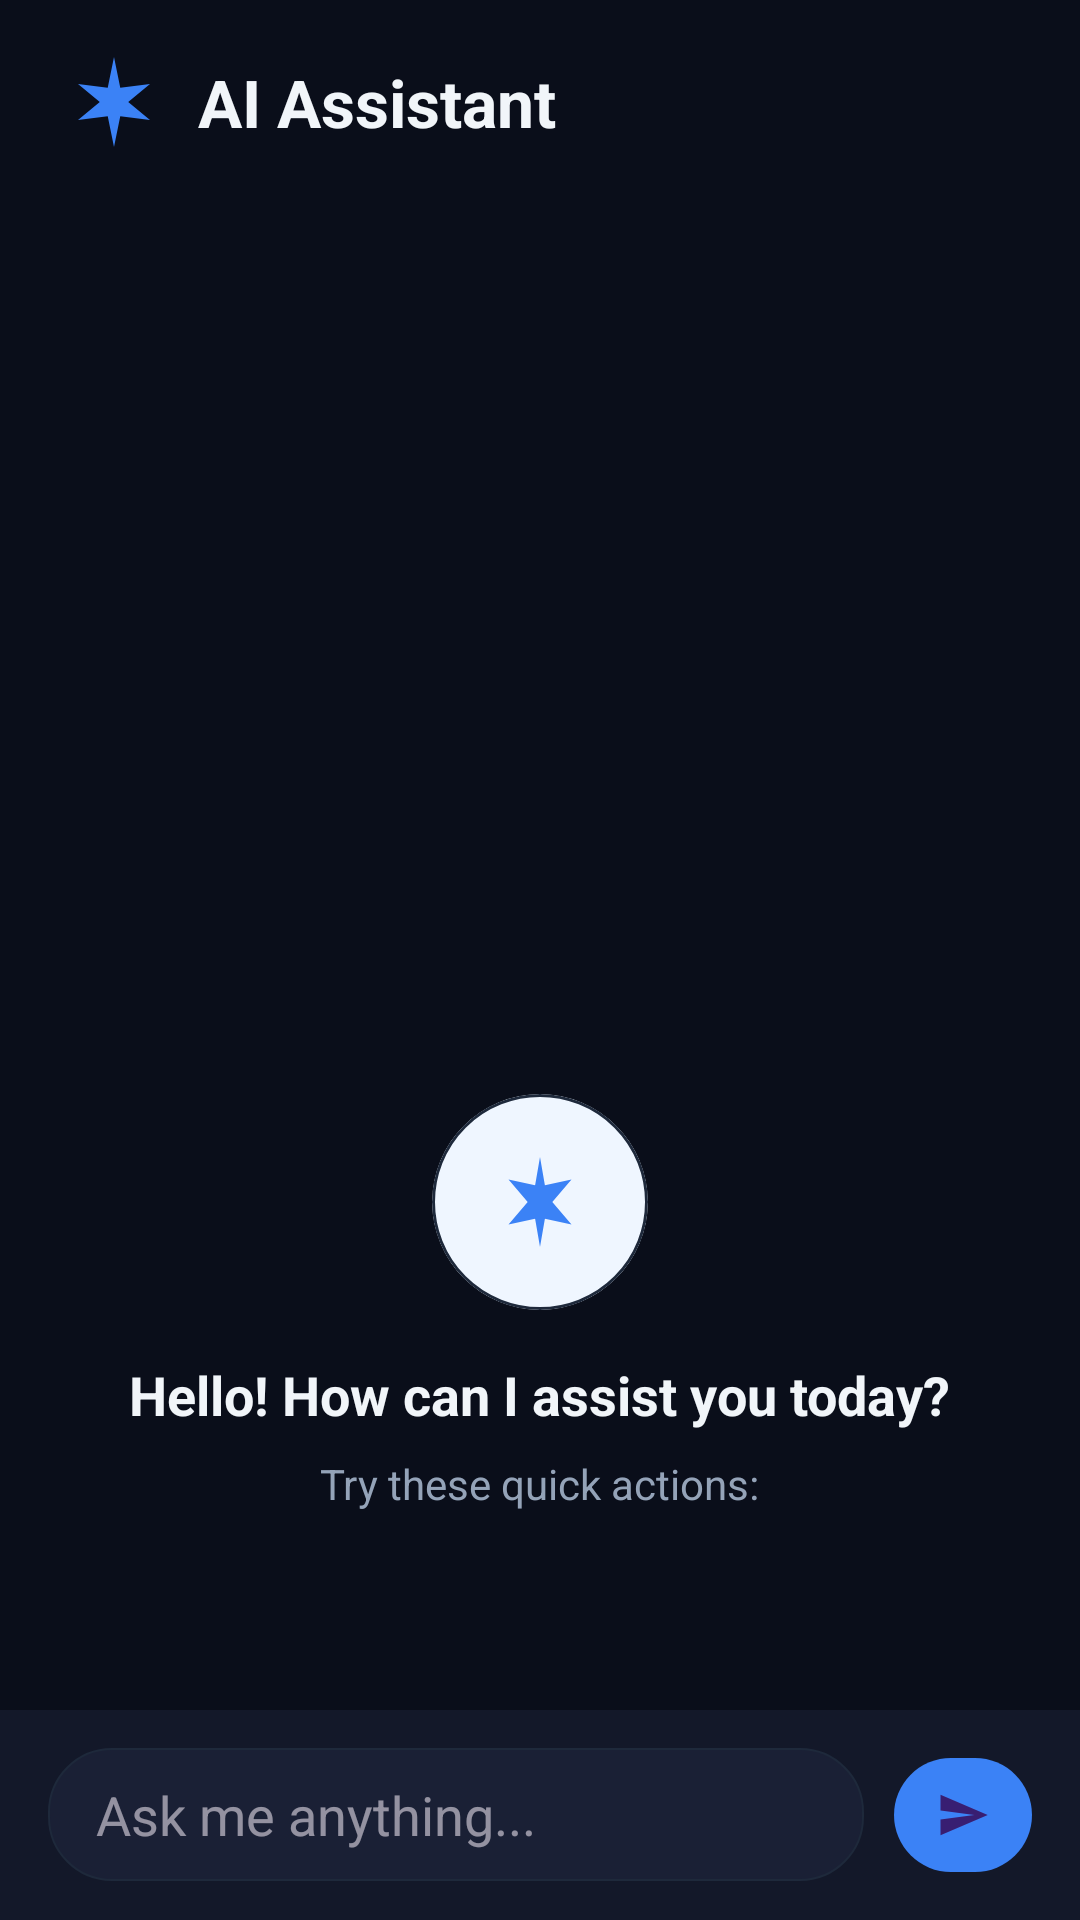

Where to tap for icons on this 1080px x 1920px app screen, as (x,y):
send: (963,1815)
sparkles: (540,1202)
